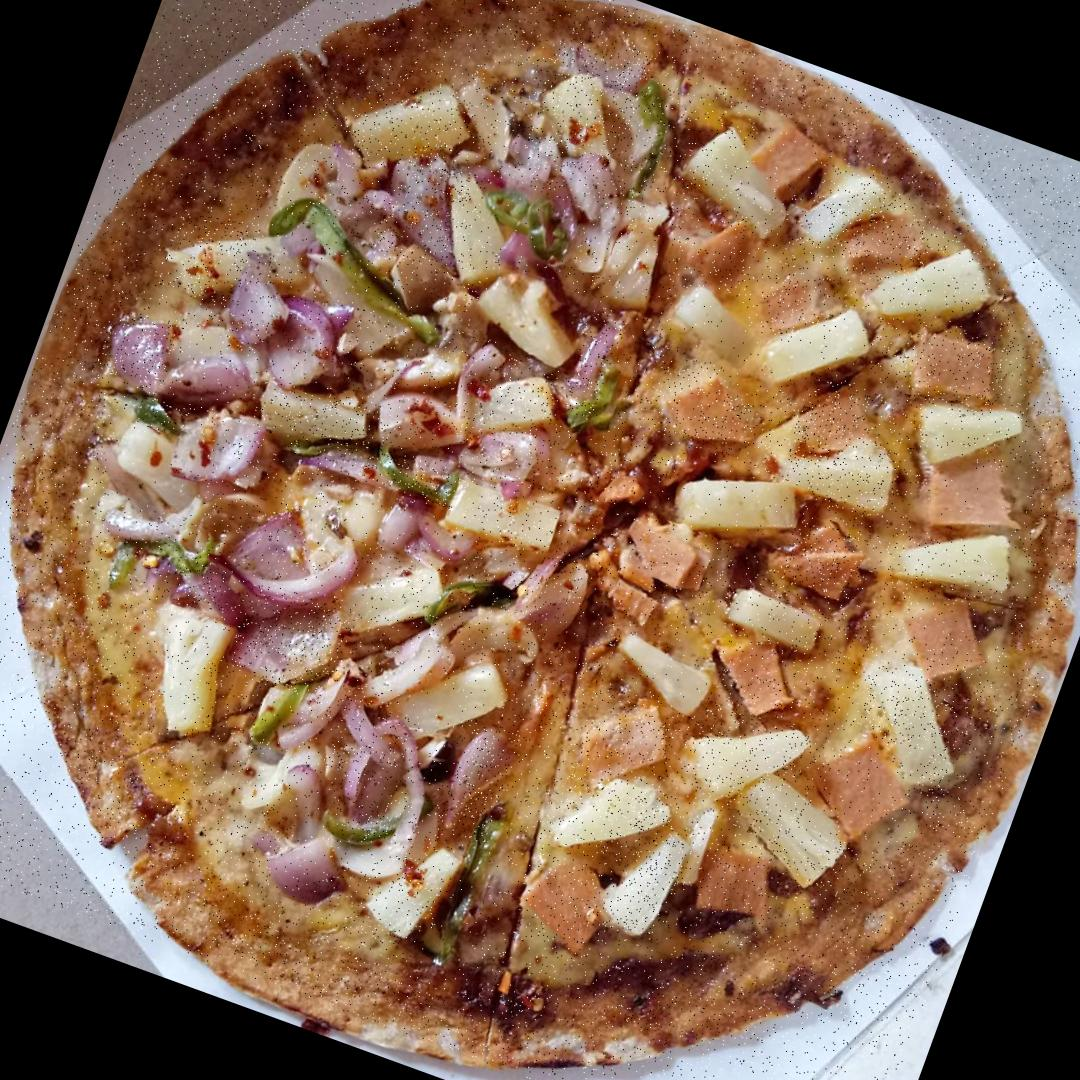Ham: (804, 722, 929, 858), (570, 692, 686, 814), (906, 450, 1030, 560), (892, 314, 1014, 423), (889, 582, 1004, 696), (509, 851, 620, 962), (786, 371, 882, 476), (684, 836, 783, 936), (836, 198, 939, 294), (736, 112, 836, 210), (710, 633, 810, 730), (748, 260, 849, 356), (654, 374, 758, 459), (775, 514, 869, 604), (623, 515, 716, 604), (688, 204, 765, 296)
Onion: (222, 505, 363, 642), (222, 581, 352, 705), (370, 149, 490, 283), (313, 698, 429, 828), (496, 124, 635, 220), (254, 283, 360, 401), (438, 720, 526, 846), (452, 415, 556, 508), (88, 308, 184, 404), (374, 496, 482, 576), (158, 340, 260, 424), (436, 330, 511, 444), (258, 822, 351, 913), (223, 252, 304, 356), (170, 556, 278, 630), (554, 23, 658, 96), (564, 306, 628, 421), (564, 189, 628, 278), (272, 759, 343, 839)
Peppers: (246, 181, 474, 349), (418, 792, 518, 986), (606, 80, 692, 208), (472, 175, 586, 271), (322, 766, 418, 861), (241, 665, 318, 764), (362, 444, 465, 512), (143, 519, 225, 588), (567, 355, 630, 444), (99, 534, 154, 601), (135, 396, 192, 440), (278, 430, 340, 468)
Pineapple: (114, 589, 254, 753), (843, 652, 984, 799), (862, 220, 1015, 350), (718, 768, 865, 901), (158, 204, 310, 329), (542, 752, 678, 881), (668, 118, 807, 244), (384, 638, 518, 767), (750, 284, 880, 414), (343, 67, 478, 191), (665, 448, 810, 563), (329, 532, 453, 662), (680, 697, 810, 817), (416, 164, 532, 294), (901, 376, 1028, 492), (592, 808, 698, 945), (353, 826, 466, 953), (466, 262, 595, 373), (248, 368, 383, 470), (528, 60, 646, 175), (778, 420, 905, 526), (892, 510, 1024, 610), (601, 624, 725, 722), (103, 412, 215, 518), (472, 352, 576, 462), (443, 473, 563, 566), (792, 162, 893, 267), (602, 198, 681, 320), (720, 580, 832, 659), (669, 287, 768, 376), (333, 484, 394, 557)
Pizza: (0, 0, 1080, 1080)
